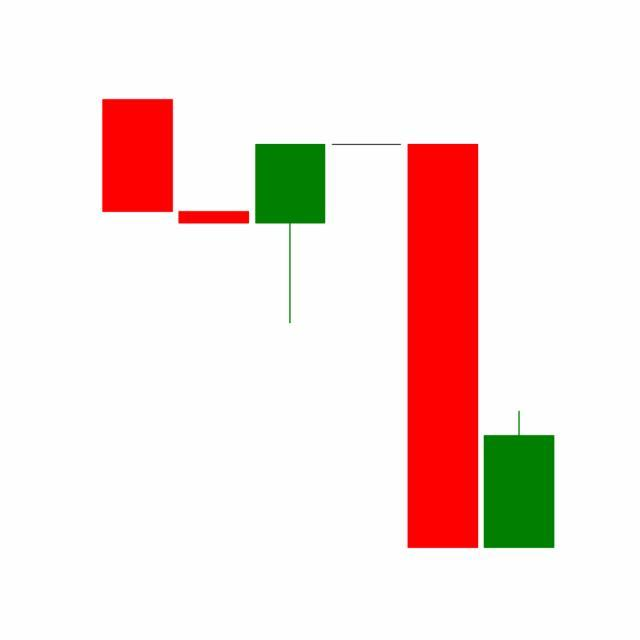Marubozu: (404, 141, 482, 553)
